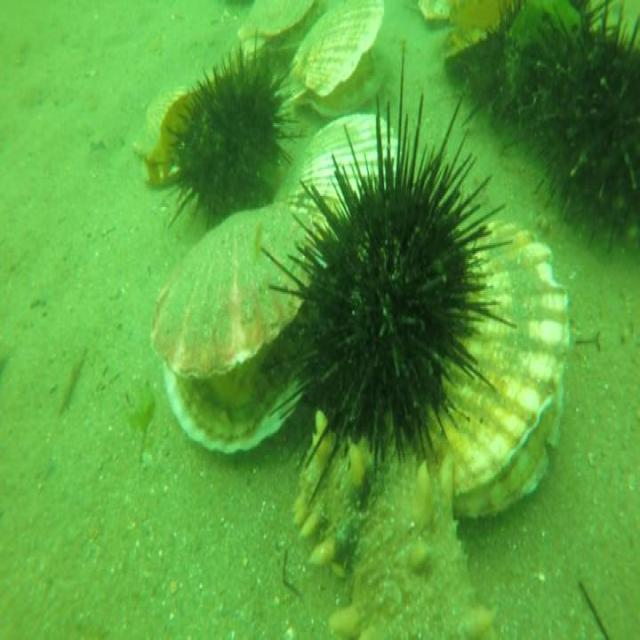echinus: (274, 95, 498, 477), (531, 3, 640, 263), (164, 42, 287, 230)
holothurian: (297, 409, 506, 640)
scallop: (144, 193, 323, 458), (441, 200, 574, 528), (290, 101, 402, 234), (292, 0, 390, 114), (133, 75, 199, 186), (236, 1, 318, 64)
